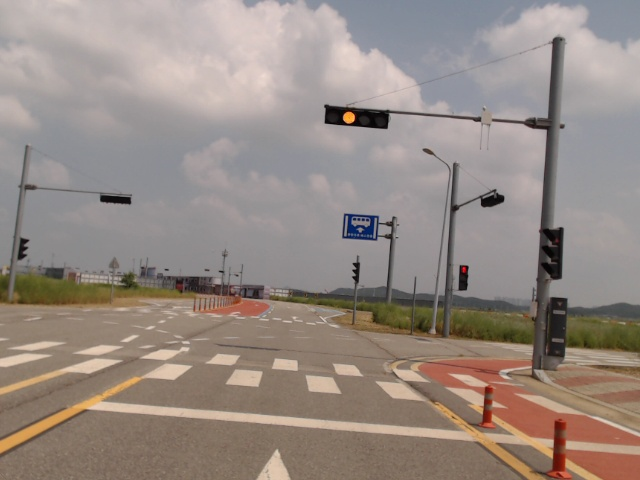orange_4: (327, 104, 389, 131)
